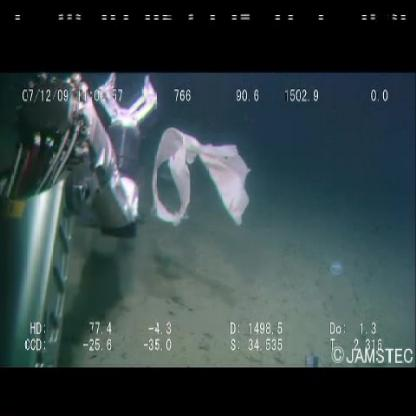Rov: (1, 75, 165, 364)
Rác: (148, 125, 256, 238)
